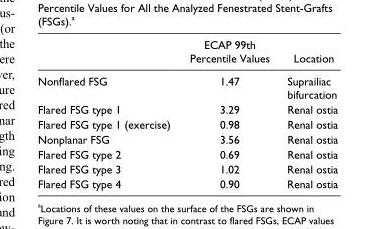table: (36, 37, 337, 190)
table column: (36, 37, 179, 190), (179, 37, 277, 190), (277, 37, 337, 190)
table column header: (36, 37, 337, 69)
table row: (36, 37, 337, 69), (36, 69, 337, 101), (36, 101, 337, 116), (36, 116, 337, 131), (36, 131, 337, 146), (36, 146, 337, 161), (36, 161, 337, 176), (36, 176, 337, 190)
